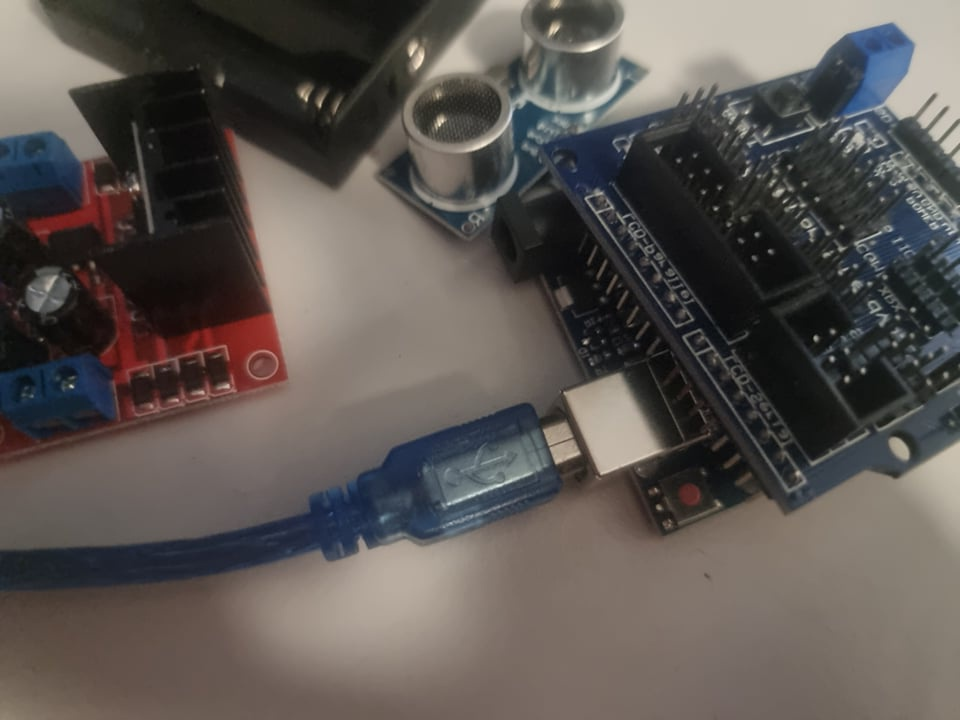5V EXPANSION: (538, 25, 959, 514)
MOTOR: (0, 64, 295, 456)
SENSOR: (376, 4, 648, 243)
UNO R3: (496, 196, 758, 547)
